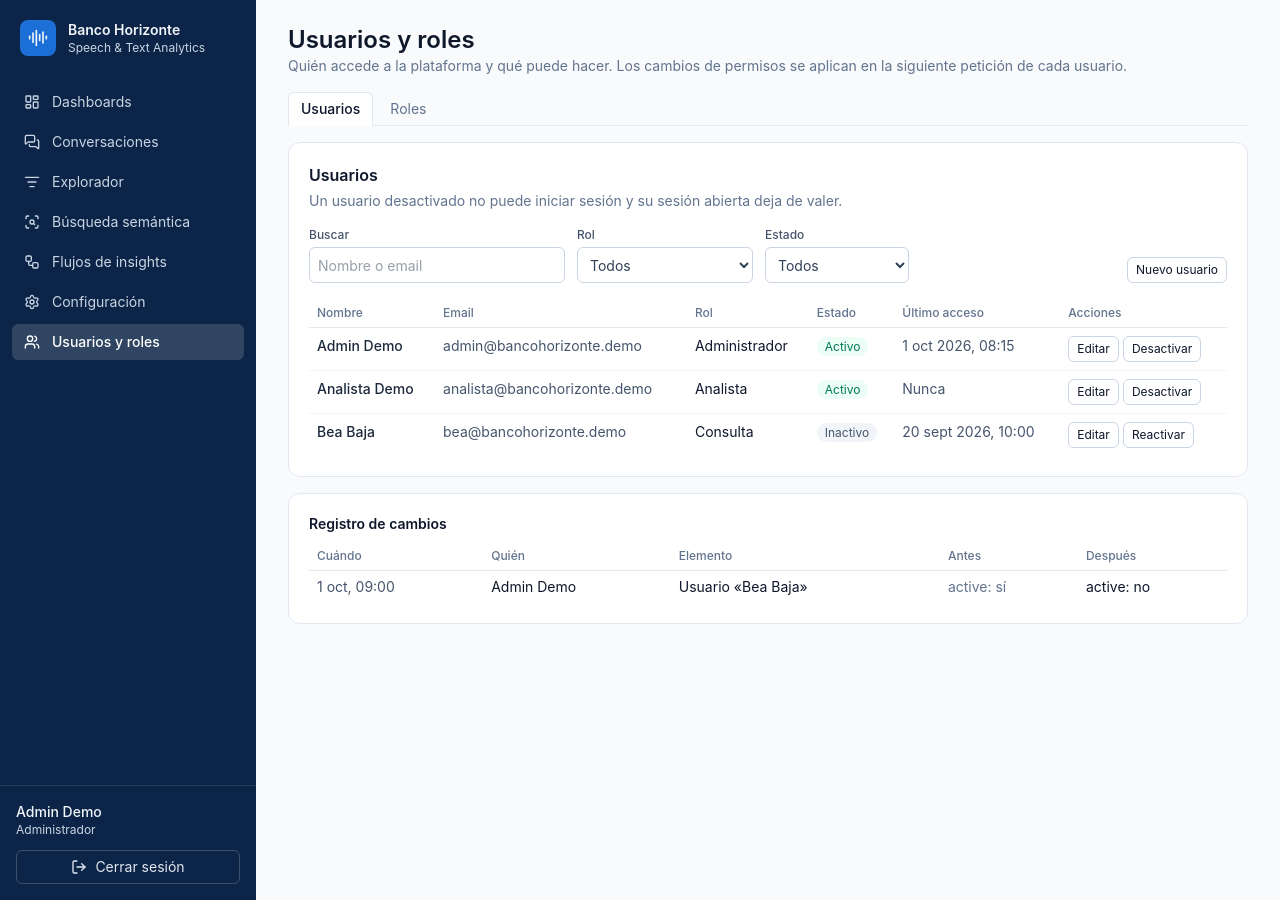
it: Usuarios y roles: pestaña Usuarios › muestra el motivo cuando una protección rechaza el cambio
Click the button "Desactivar" in the row of "admin@bancohorizonte.demo" at (1162, 349), box [1123,336,1201,362]
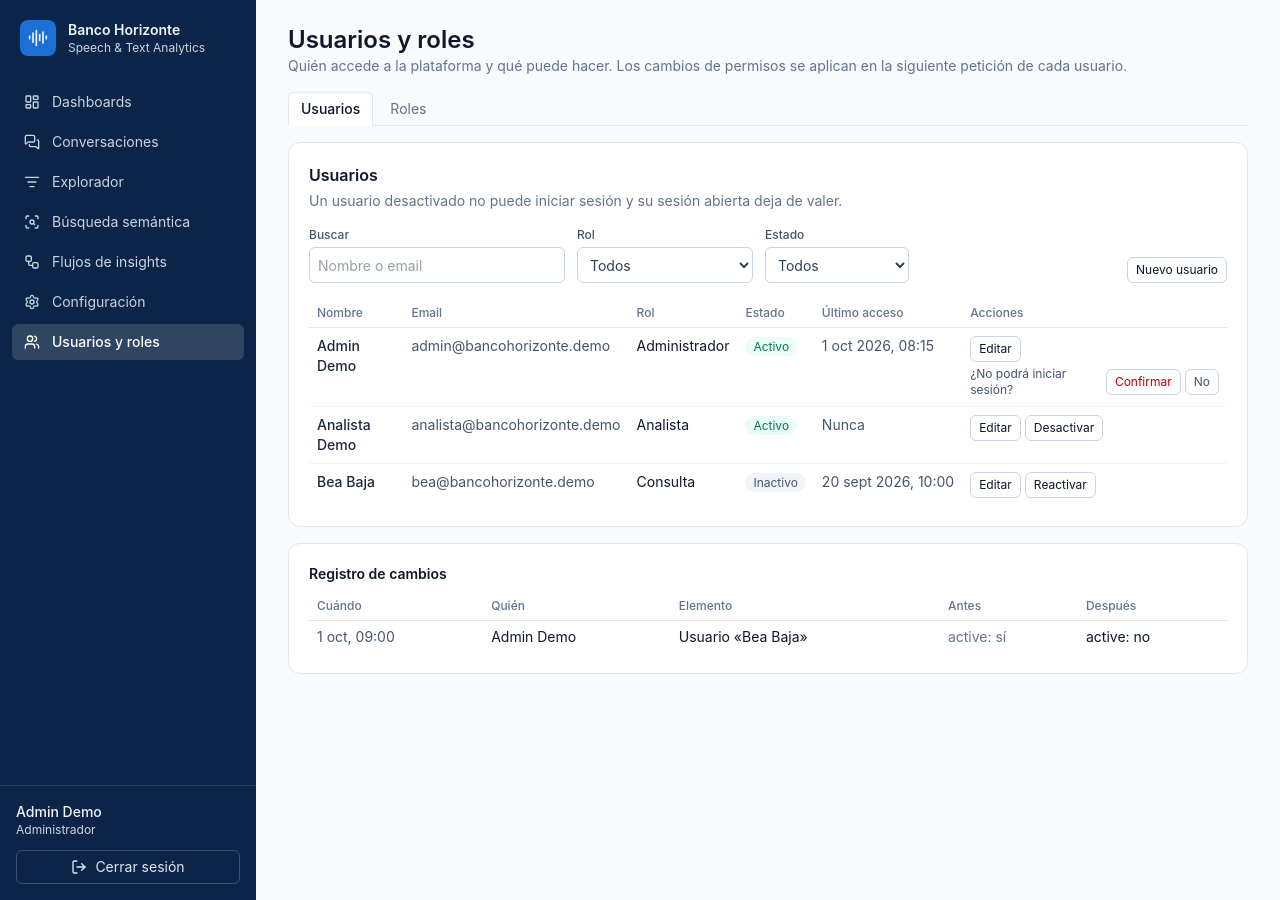
Click the button "Confirmar" at (1143, 382), box [1106,369,1181,395]
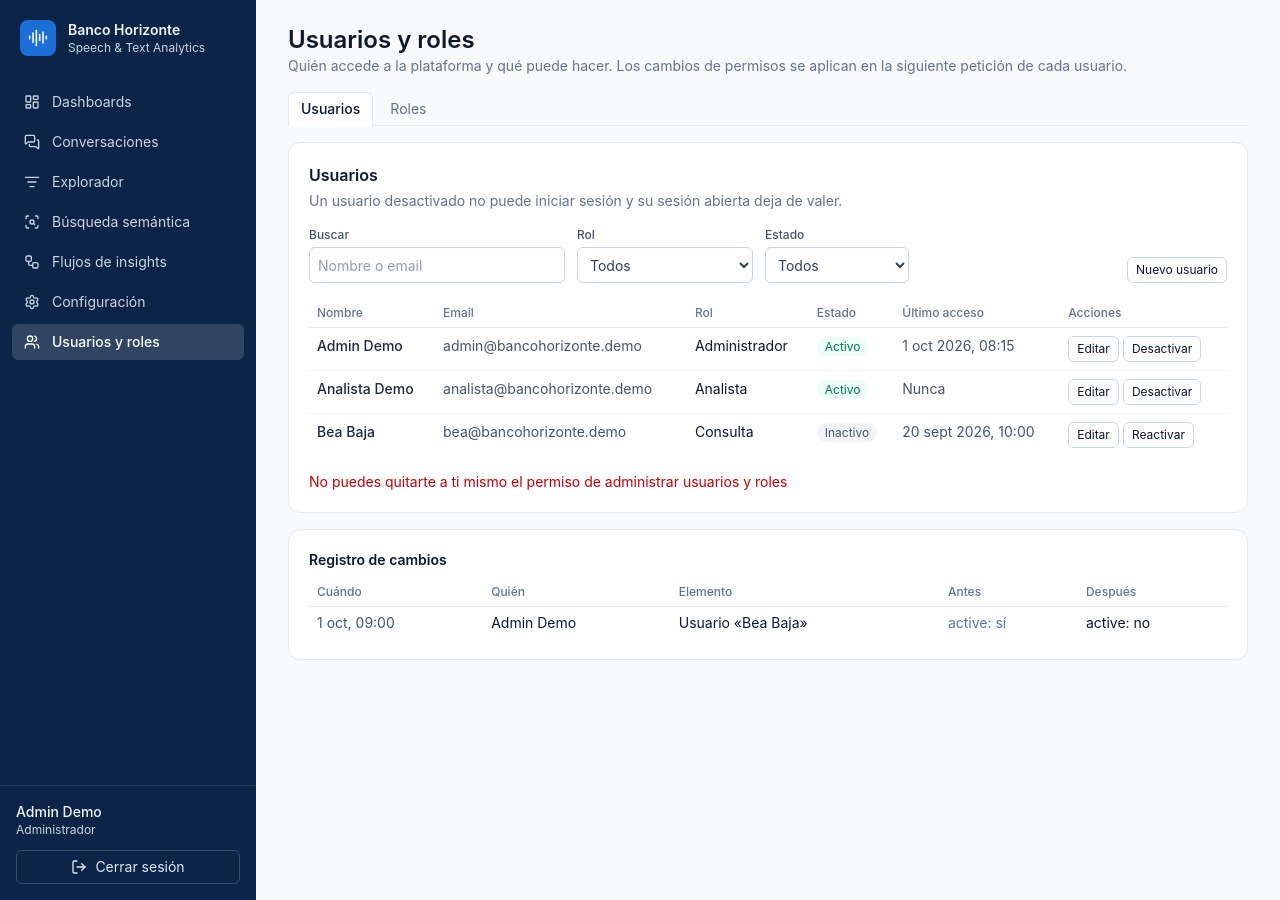
Expected: the message shows "No puedes quitarte a ti mismo el permiso", [309,473,787,490]
